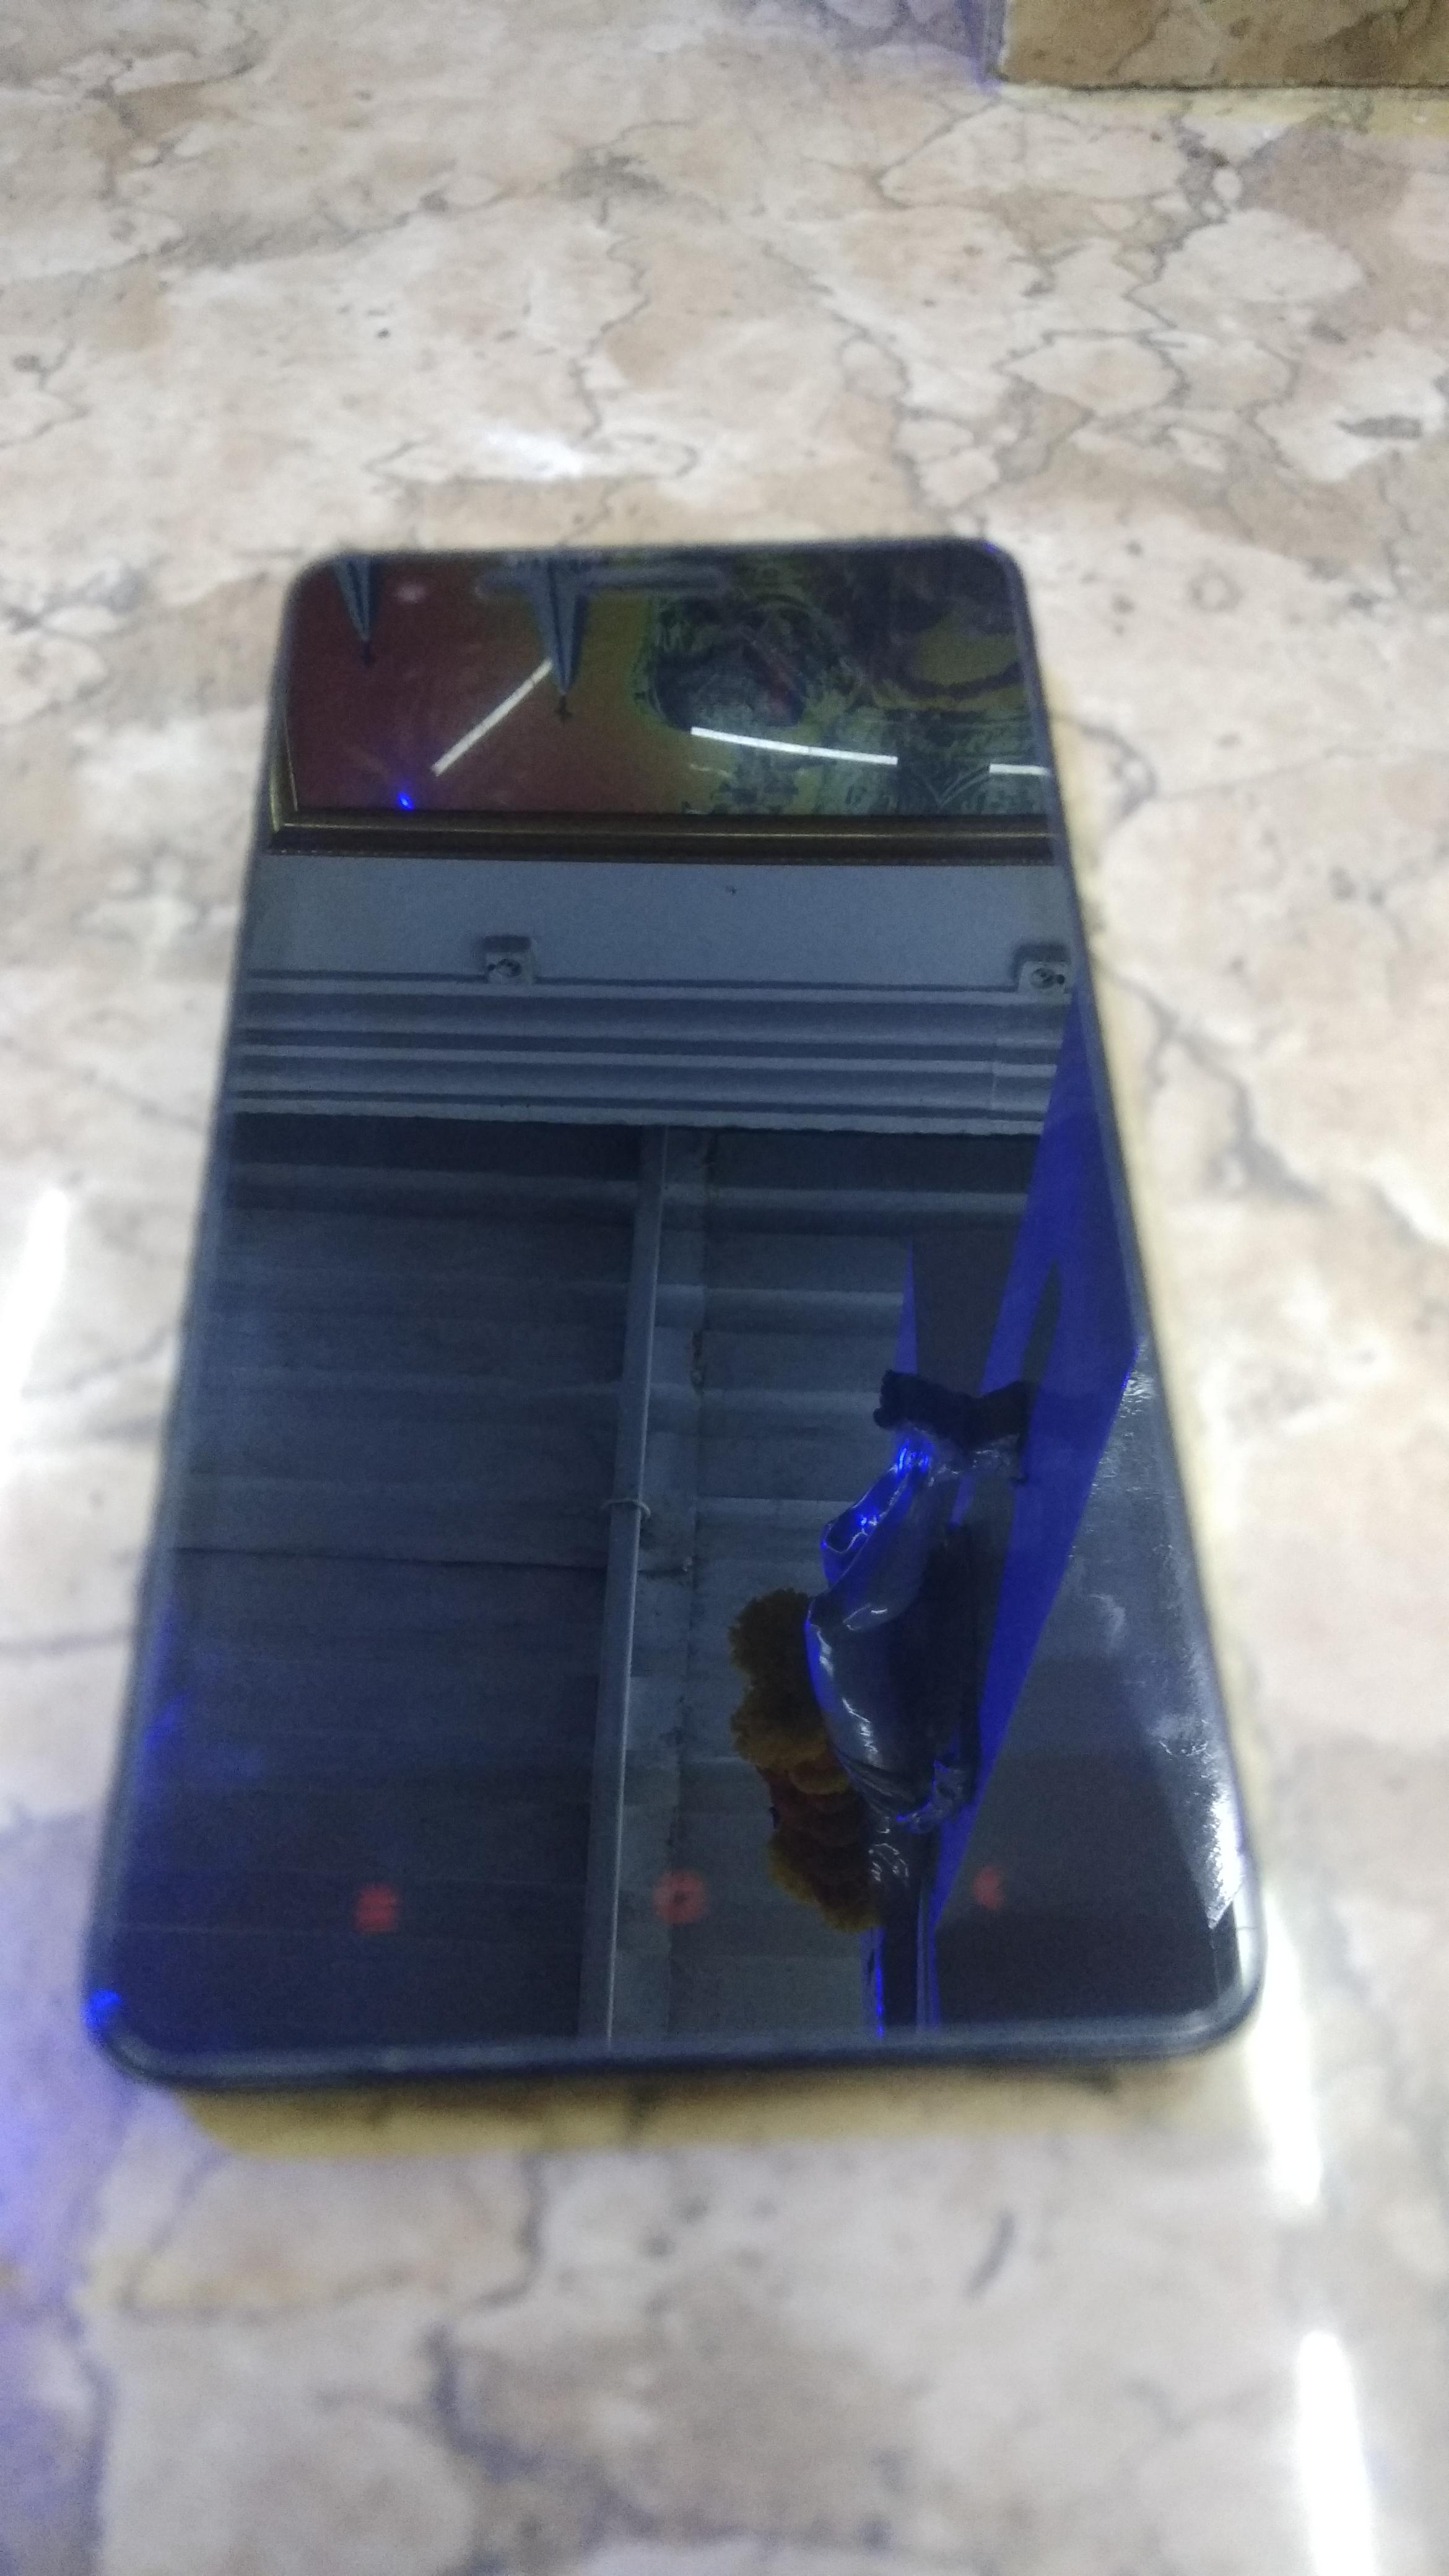Phone: (41, 511, 1292, 2176)
